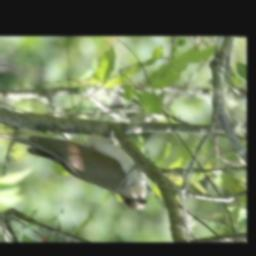Cuckoo: (0, 122, 146, 213)
